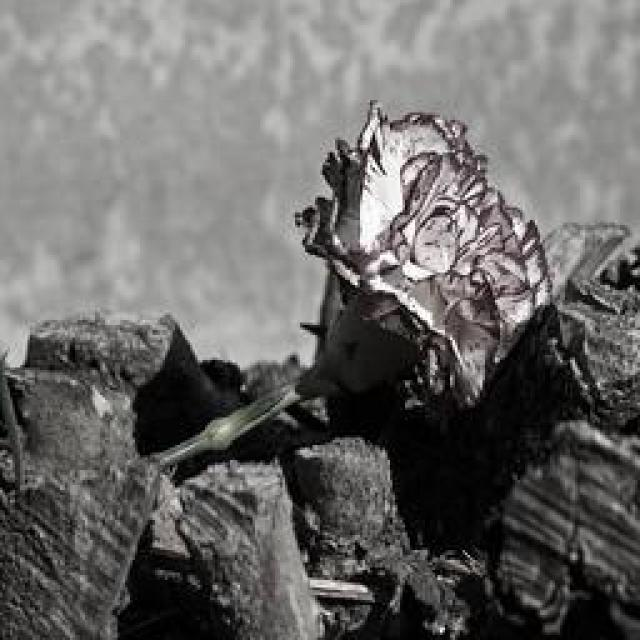carnation: (298, 90, 574, 478)
